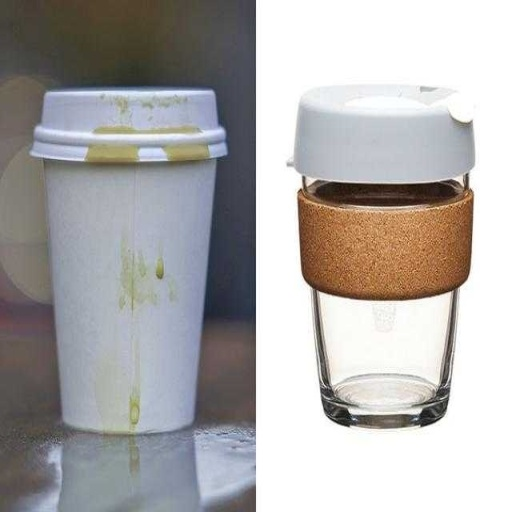cup: (28, 88, 227, 434), (292, 81, 476, 429)
